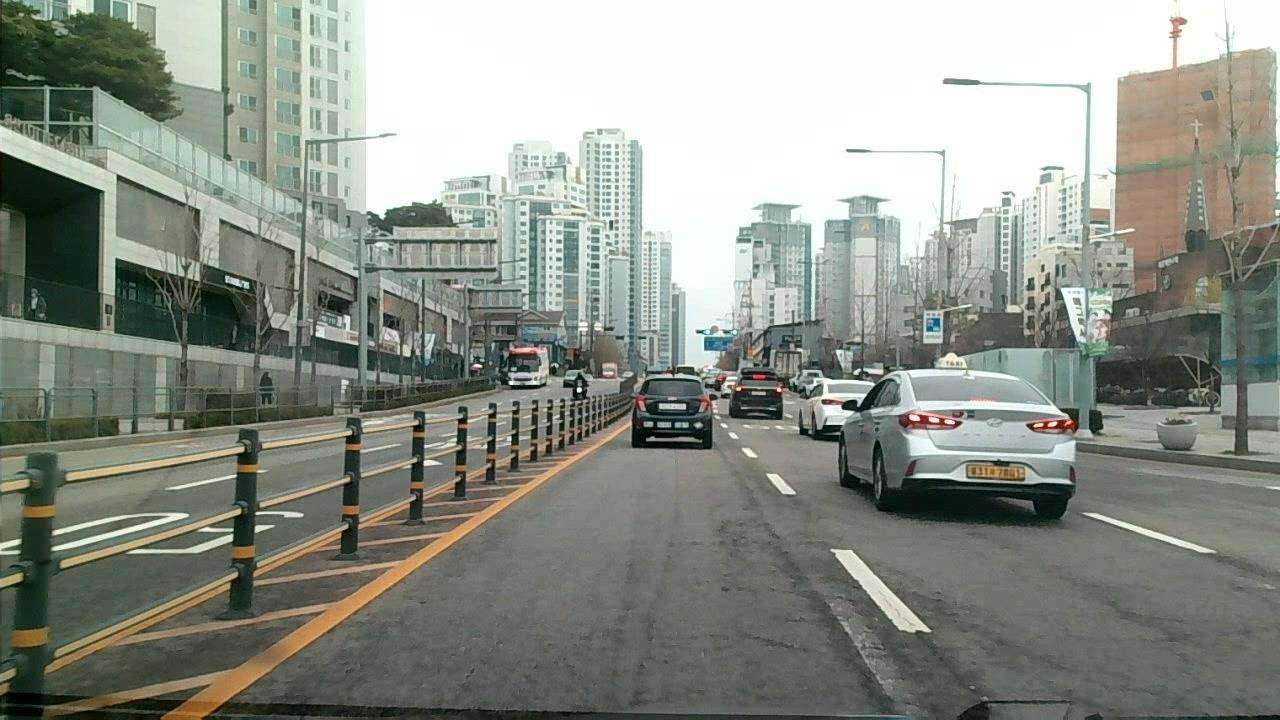erosion: (710, 504, 989, 695)
